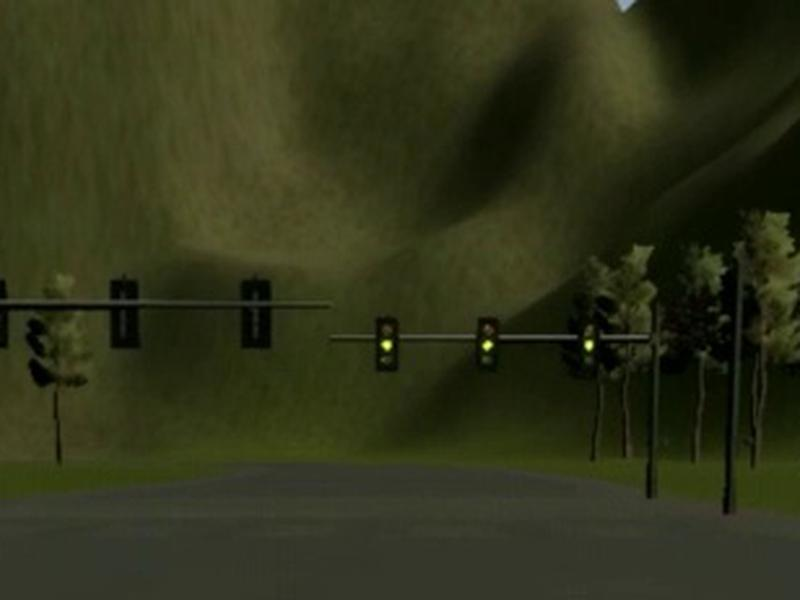Yellow: (374, 317, 400, 373), (475, 318, 499, 371), (577, 317, 601, 368)
